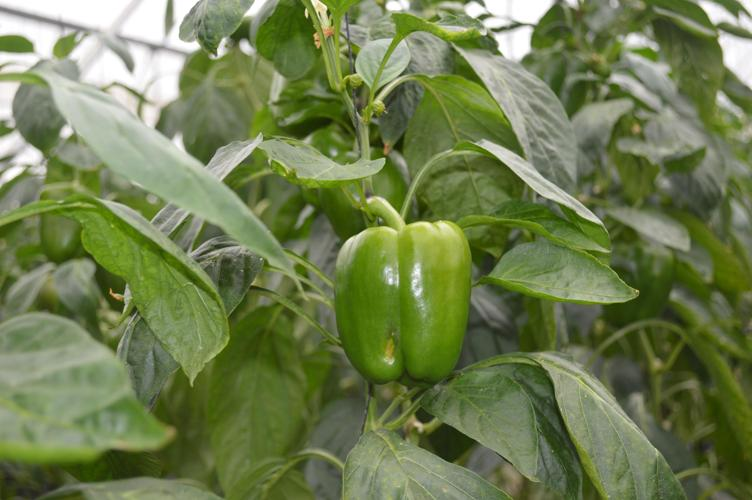BellPepper: (326, 221, 478, 398)
